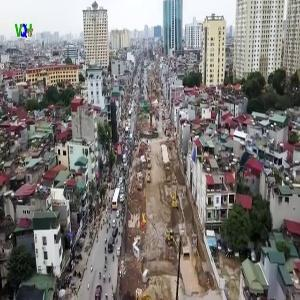drone: (224, 140, 263, 179)
